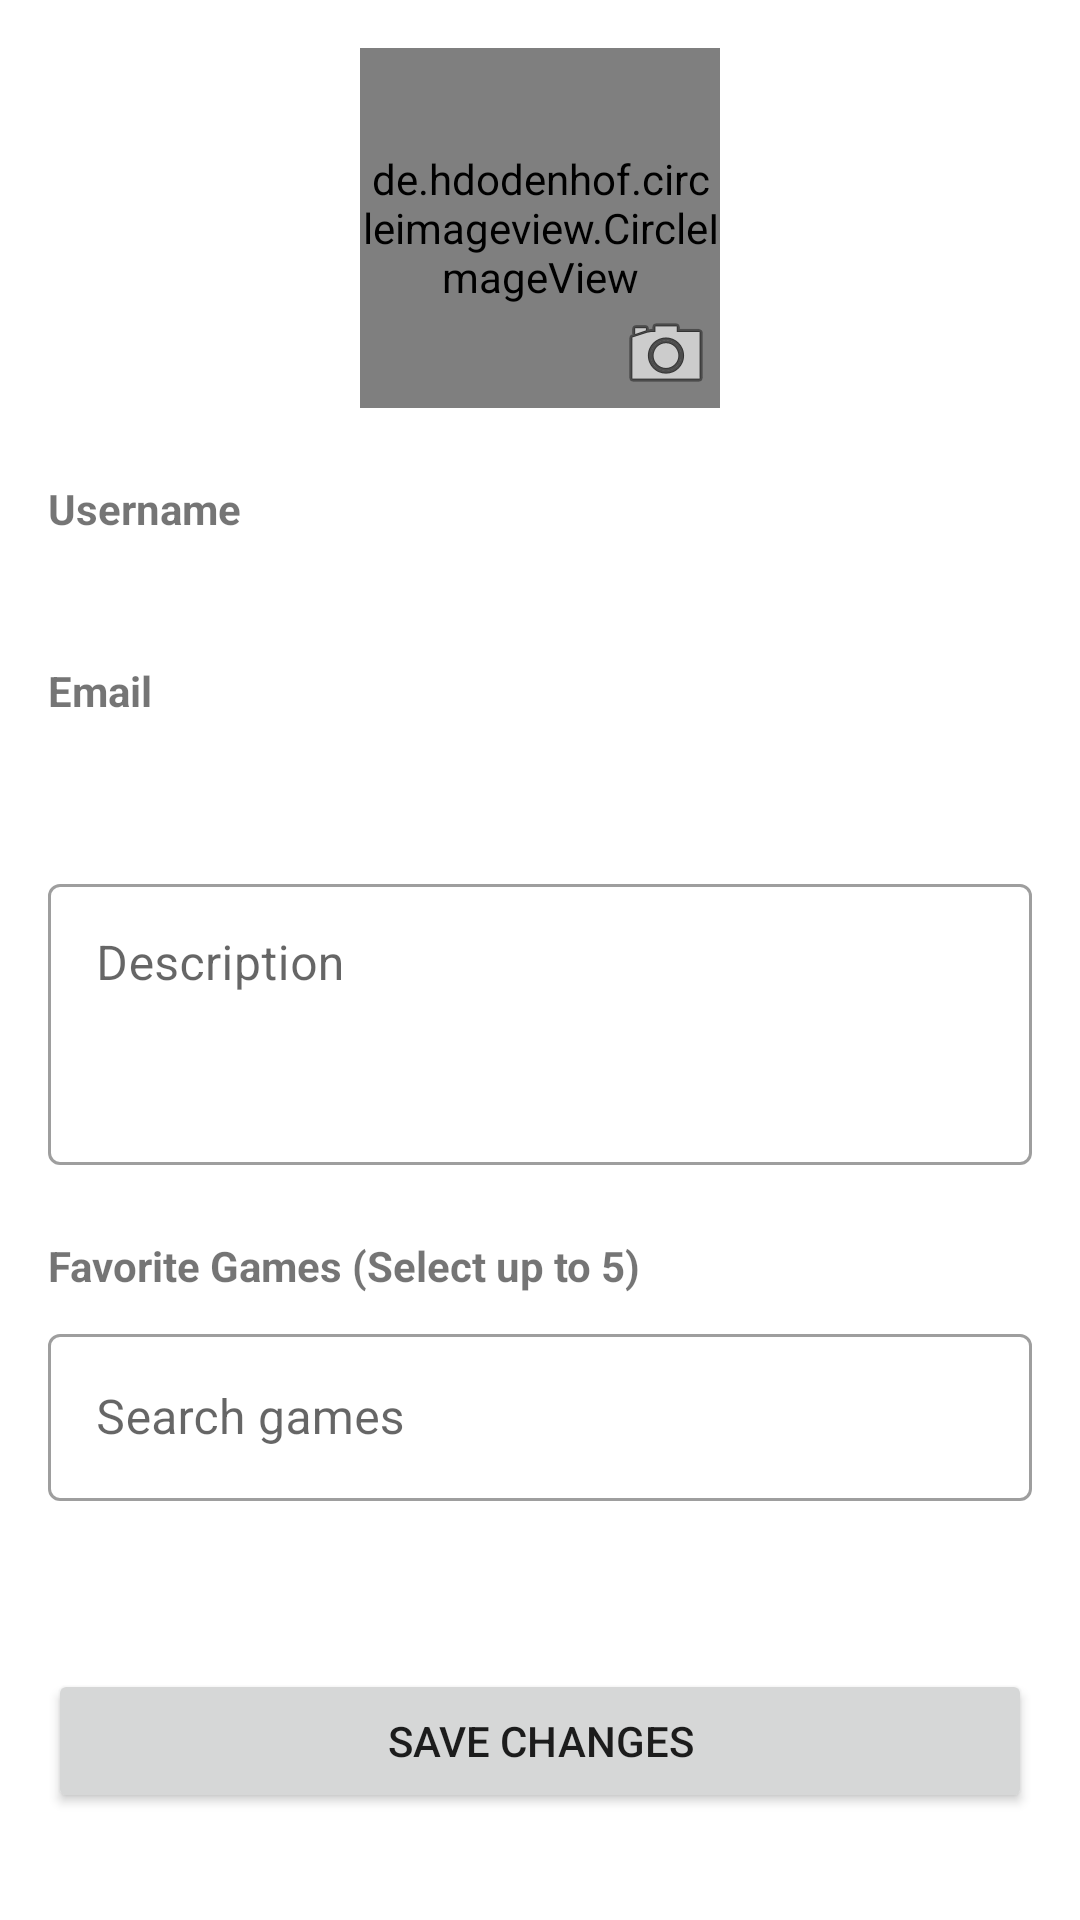

Where icons sit on this 1080w x 1920h app screen, as (x1, y1, x2, y2):
camera: (629, 323, 703, 382)
